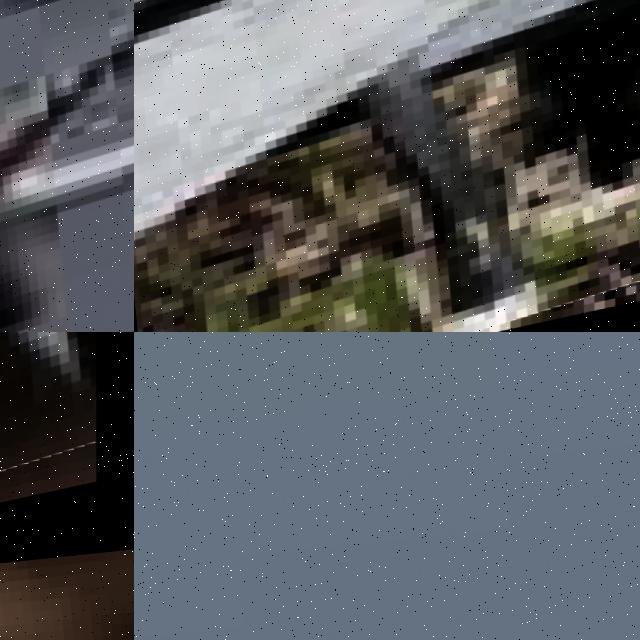0: (0, 0, 134, 332)
drone: (134, 0, 640, 332), (0, 332, 134, 613)
